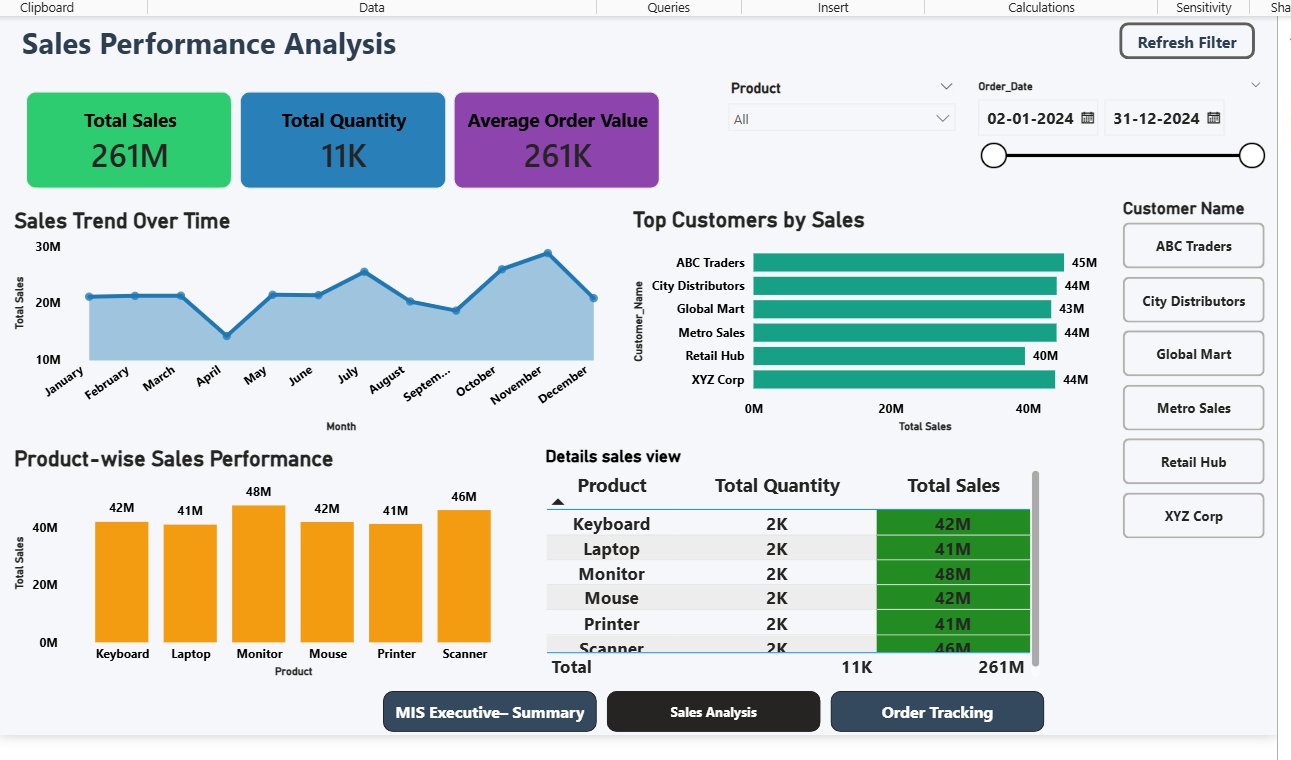

What the dashboard file says about the page in this screenshot:
{"tool":"powerbi","page":{"name":"Sales Analysis","canvas":[1280,720],"ordinal":1},"visuals":[{"type":"shape","box":[0,0,1280.3,52.1],"z":0},{"type":"actionButton","box":[1122.5,6.9,135.8,37],"z":1000},{"type":"pageNavigator","box":[385.4,675.7,663.1,41.3],"z":2000},{"type":"cardVisual","fields":{"Data":["MIS_Sales_Data.Total Sales","MIS_Sales_Data.Total Quantity","MIS_Sales_Data.Average Order Value"]},"box":[11.1,59.1,670.2,131.8],"z":3000},{"type":"lineChart","title":"Sales Trend Over Time","fields":{"Y":["MIS_Sales_Data.Total Sales"],"Category":["MIS_Sales_Data.Order_Date.Variation.Date Hierarchy.Month"]},"box":[11.1,192.2,608.6,229.1],"z":4000},{"type":"clusteredBarChart","title":"Top Customers by Sales","fields":{"Y":["MIS_Sales_Data.Total Sales"],"Category":["MIS_Sales_Data.Customer_Name"]},"box":[630.8,191,487.9,230.4],"z":5000},{"type":"clusteredColumnChart","title":"Product-wise Sales Performance","fields":{"Y":["MIS_Sales_Data.Total Sales"],"Category":["MIS_Sales_Data.Product"]},"box":[11.1,430,516.2,236.5],"z":6000},{"type":"tableEx","title":"Details sales view","fields":{"Values":["MIS_Sales_Data.Product","MIS_Sales_Data.Total Quantity","MIS_Sales_Data.Total Sales"]},"box":[543.3,430,505.1,236.5],"z":7000},{"type":"slicer","fields":{"Values":["MIS_Sales_Data.Order_Date"]},"box":[968.3,59.1,308,115.8],"z":8000},{"type":"advancedSlicerVisual","title":"Customer Name","fields":{"Values":["MIS_Sales_Data.Customer_Name"]},"box":[1121.1,182.3,152.8,351.1],"z":9000},{"type":"slicer","title":"Customer Name","fields":{"Values":["MIS_Sales_Data.Product"]},"box":[720.7,59.1,247.6,88.7],"z":10000}]}

Visuals, with their boxes on the page's 1280x720 design canvas (x1, y1, x2, y2). These are canvas units, not pixel positions in the 1291x760 screenshot, which may show the page scaled, cropped or inside an application window:
shape: <region>0, 0, 1280, 52</region>
actionButton: <region>1122, 7, 1258, 44</region>
pageNavigator: <region>385, 676, 1048, 717</region>
cardVisual - MIS_Sales_Data.Total Sales x MIS_Sales_Data.Total Quantity: <region>11, 59, 681, 191</region>
"Sales Trend Over Time" lineChart: <region>11, 192, 620, 421</region>
"Top Customers by Sales" clusteredBarChart: <region>631, 191, 1119, 421</region>
"Product-wise Sales Performance" clusteredColumnChart: <region>11, 430, 527, 666</region>
"Details sales view" tableEx: <region>543, 430, 1048, 666</region>
slicer - MIS_Sales_Data.Order_Date: <region>968, 59, 1276, 175</region>
"Customer Name" advancedSlicerVisual: <region>1121, 182, 1274, 533</region>
"Customer Name" slicer: <region>721, 59, 968, 148</region>
